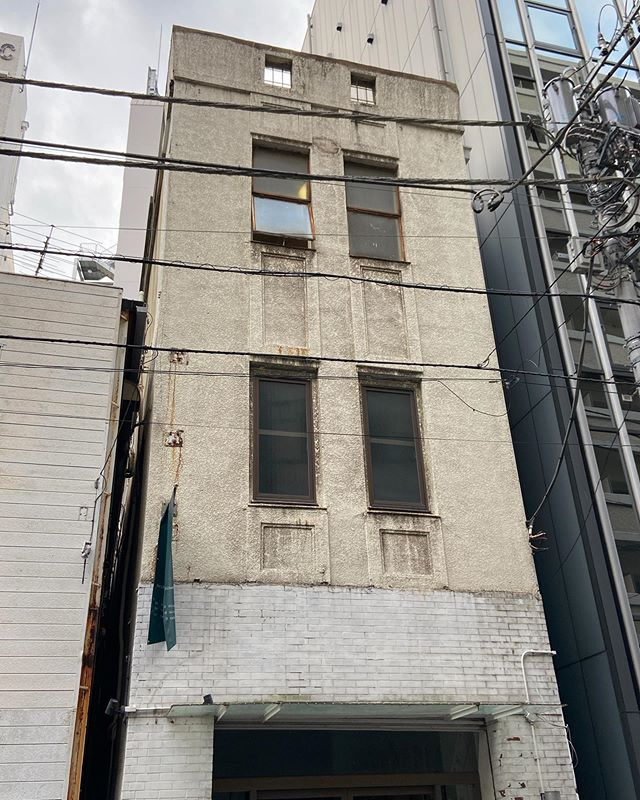building: (144, 39, 581, 800), (416, 10, 640, 800), (1, 261, 135, 797)
power pole: (509, 58, 640, 425)
